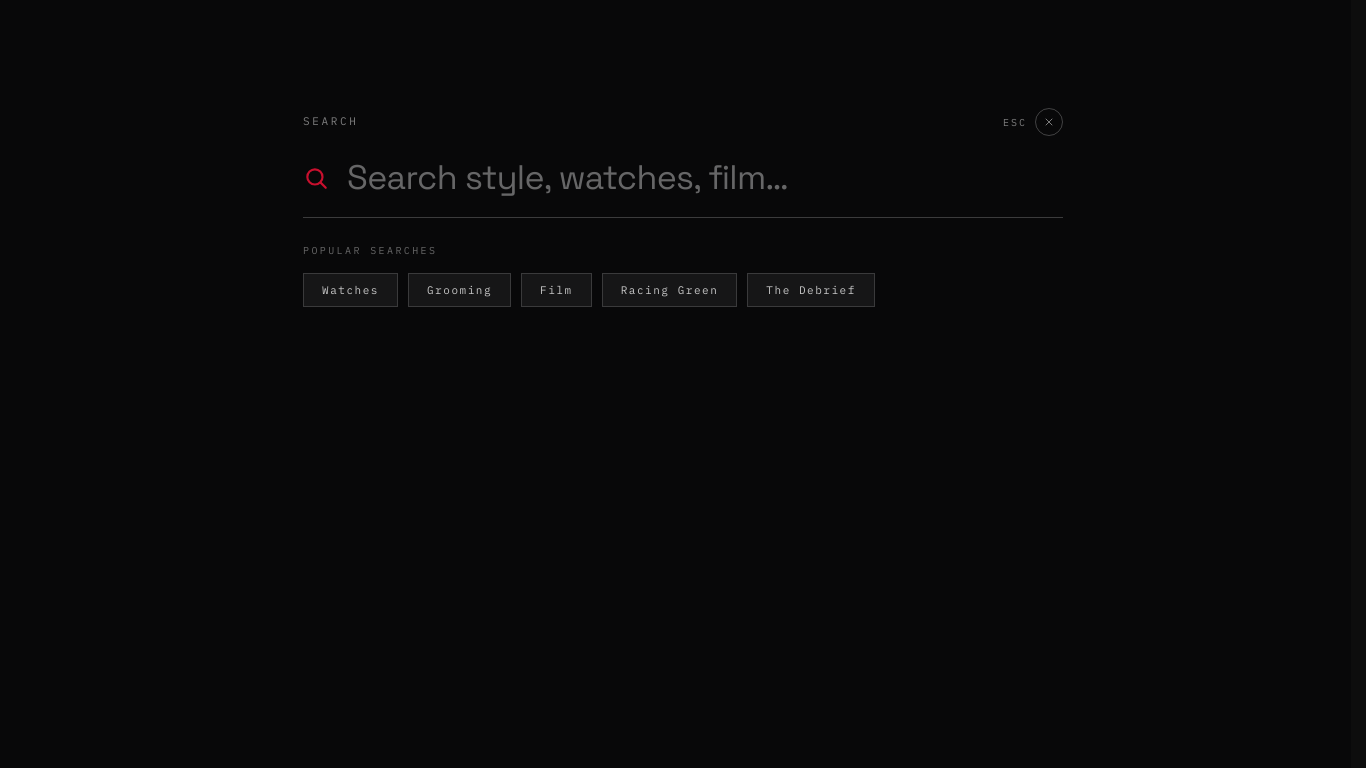
it: SearchOverlay published index › finds article terms across intervening title words and metadata
Type "slow philosophy" into the field named "Search editorial and store" at coordinates (704, 177), box [345,158,1063,197]
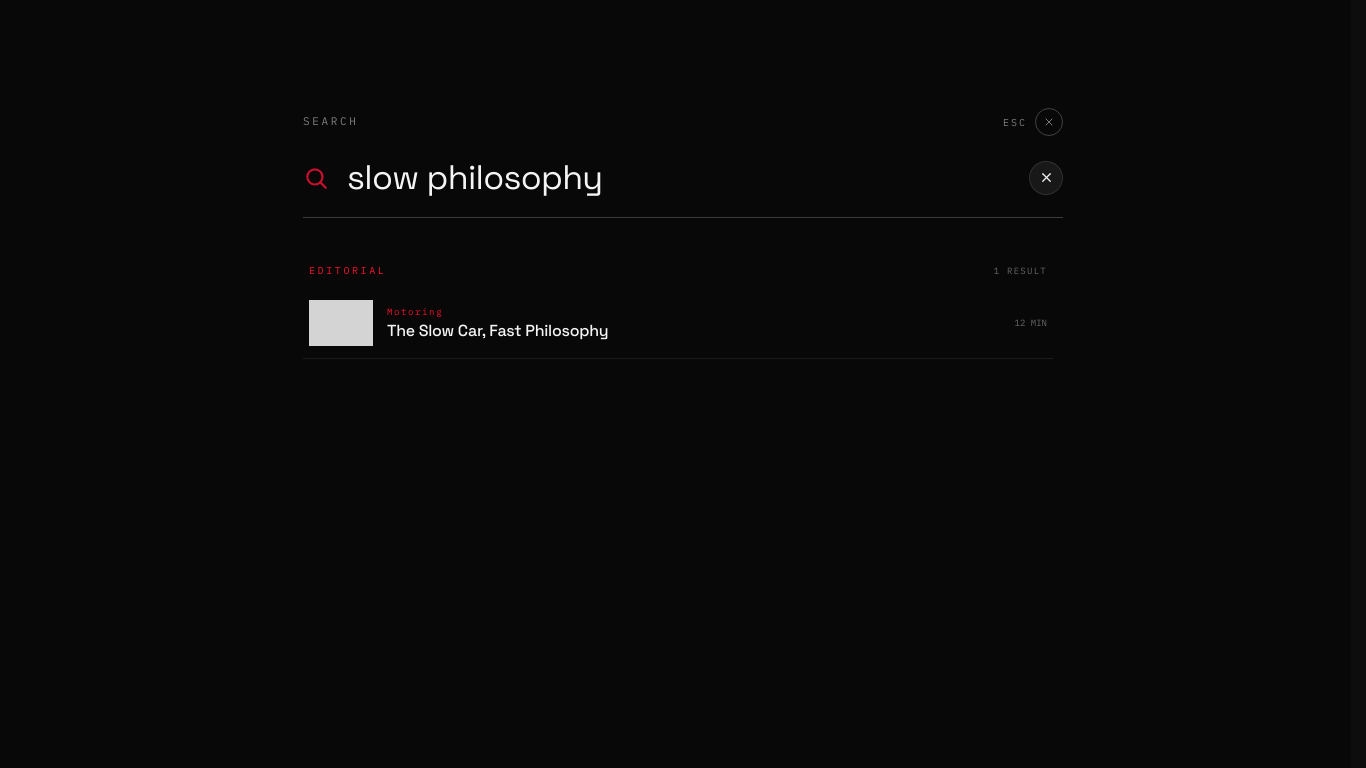
Result: the text "1 RESULT" is shown at [994,266,1047,277]
